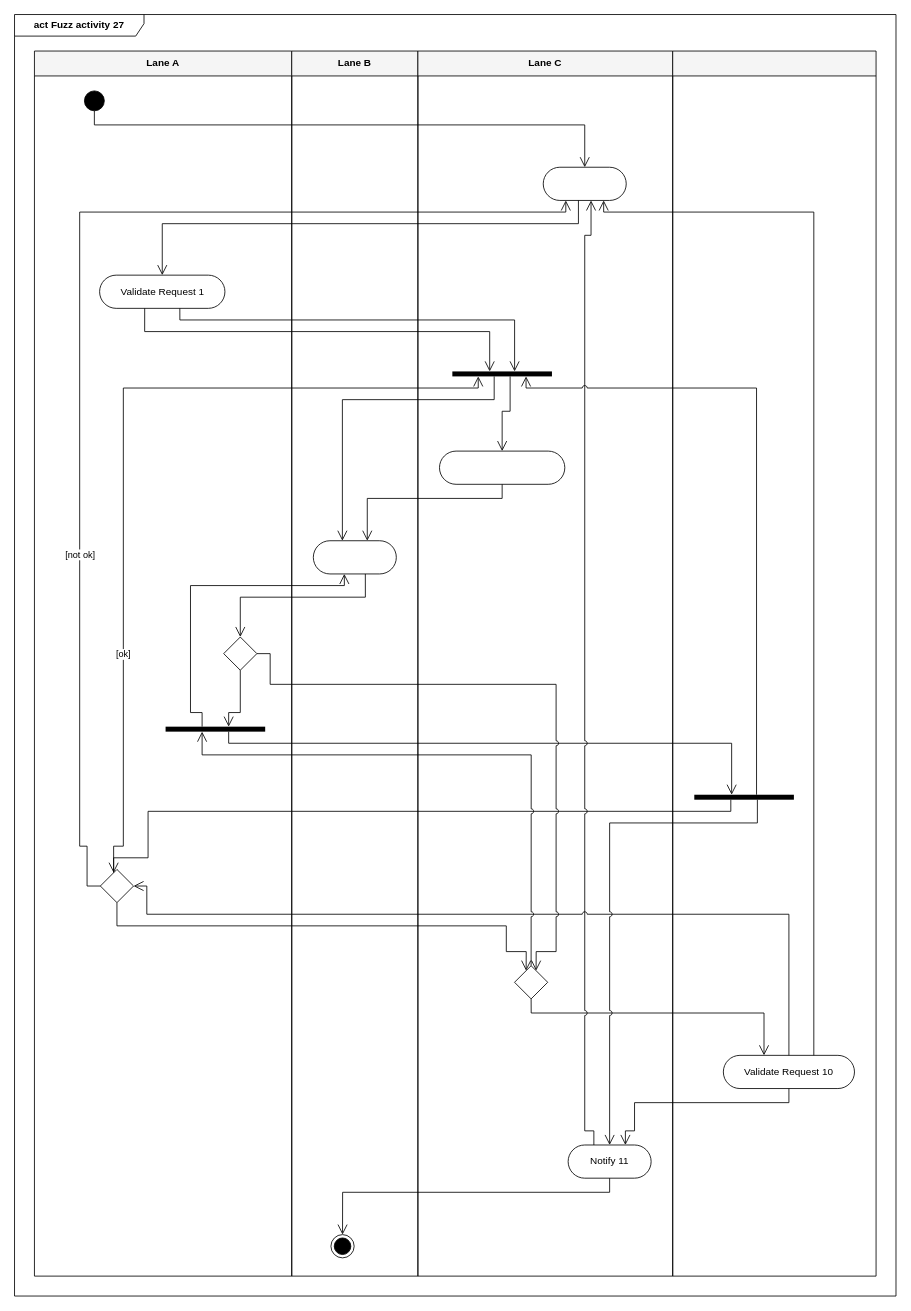
The diagram is 911 pixels wide and 1311 high, and some of its shapes have lost their labels. Here are the shapes that lost their labels. From the top down, the box of each, then its label:
(542, 166, 626, 200): Do Step 0
(439, 450, 565, 484): Validate Request 3
(312, 540, 396, 574): Do Step 4
(672, 50, 876, 1276): Lane D
